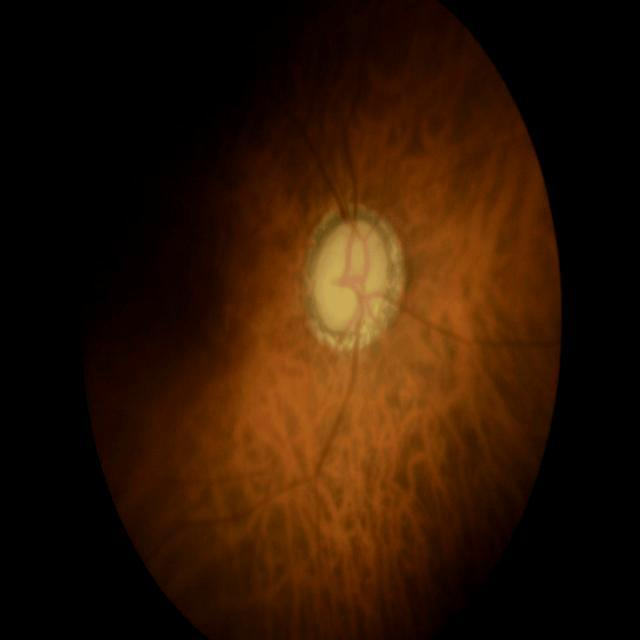cup: (314, 227, 386, 332)
disk: (312, 222, 390, 336)
